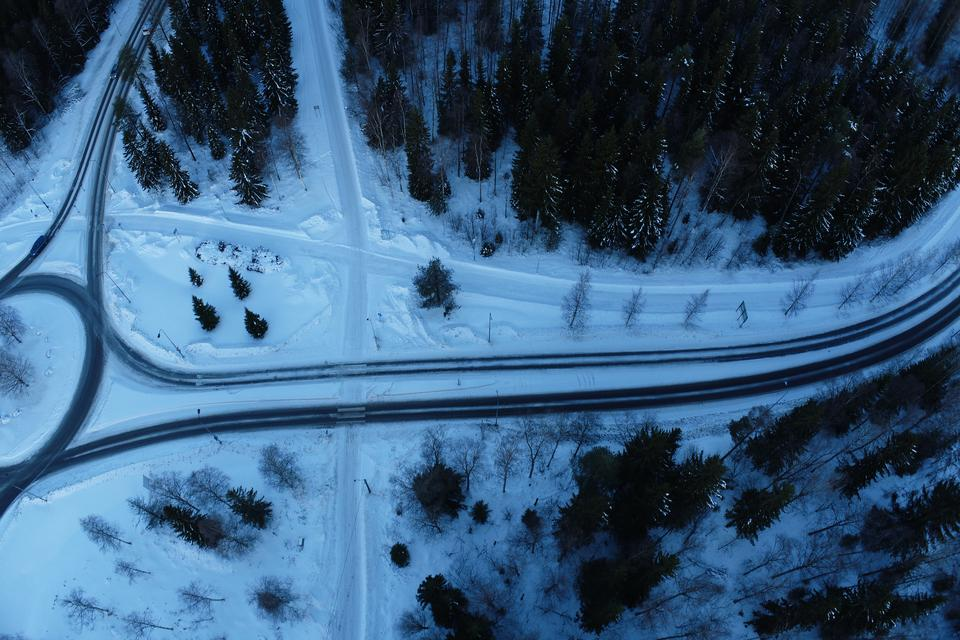intersection: (322, 349, 380, 434), (22, 202, 132, 239)
roundabout: (0, 245, 168, 511)
